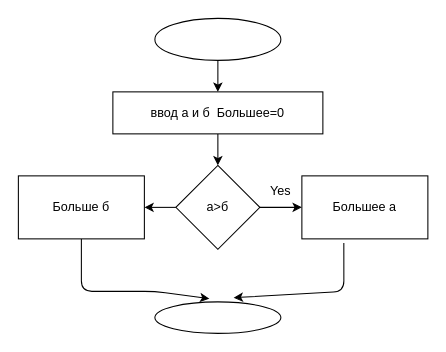
This 446x352 diagram has some shape labels left out. The centre of each missing label's shape, as x and y in pixels:
"End" belongs at (x=217, y=317).
"Start" belongs at (x=217, y=38).
